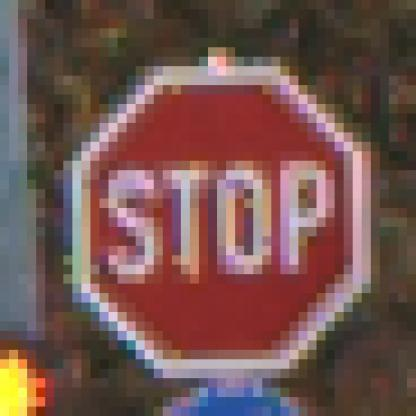Stop: (76, 70, 362, 375)
